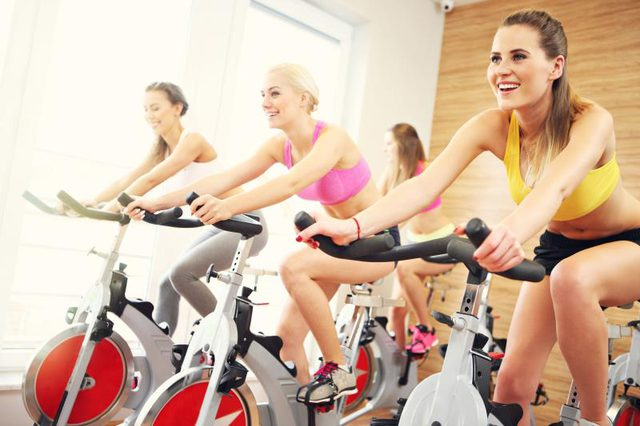gym_bike: (134, 196, 304, 426)
